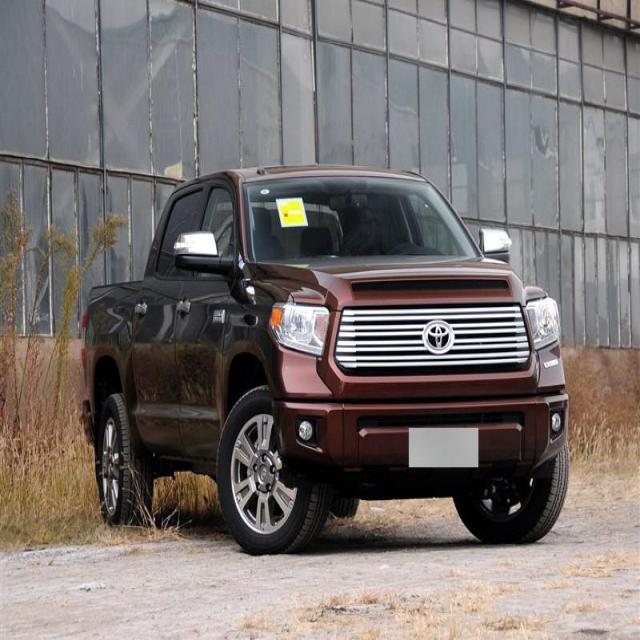door: (127, 188, 206, 466)
front_bumper: (268, 394, 571, 471)
front_glass: (242, 175, 482, 261)
front_left_side_light: (523, 292, 562, 351)
front_left_side_mirror: (478, 226, 512, 262)
front_right_side_door: (172, 173, 242, 464)
front_right_side_light: (266, 296, 332, 361)
front_right_side_mirror: (173, 228, 227, 272)
wheel: (217, 381, 329, 552), (450, 439, 569, 541), (98, 395, 152, 528)
